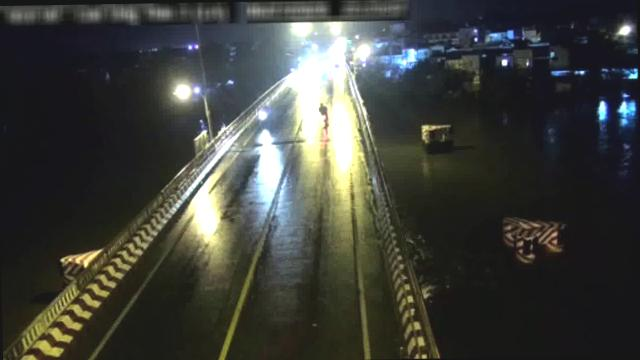Bike: (318, 102, 332, 126), (256, 105, 270, 125)
